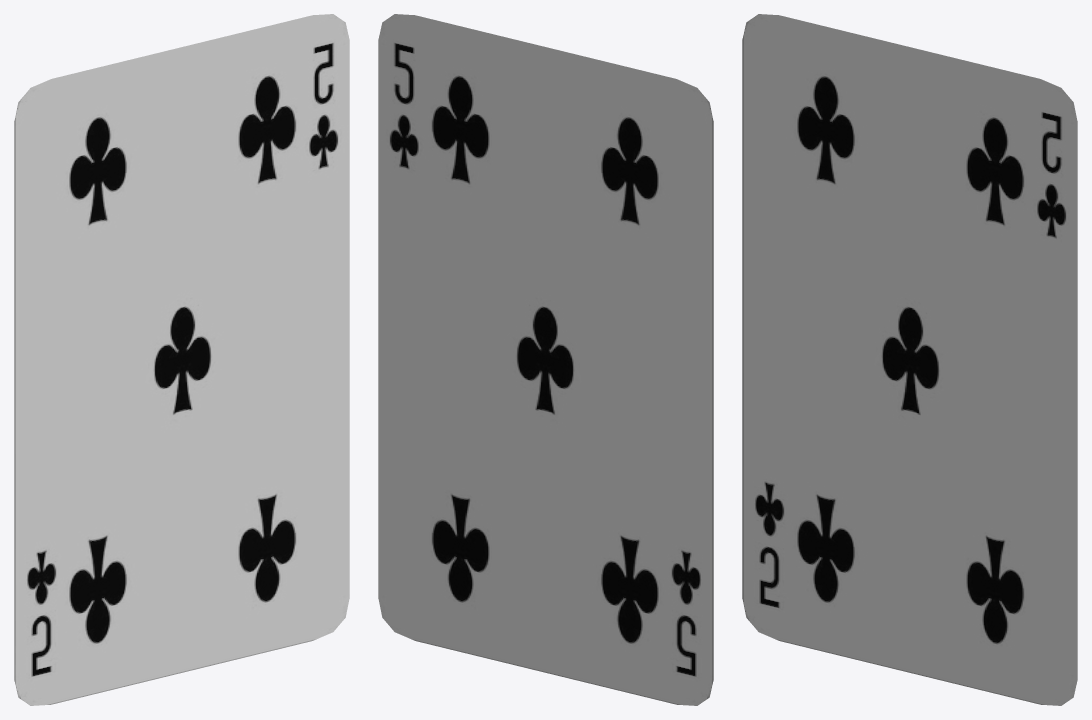
Rendered from 5_clubs.glb.
The picture shows the model from 3 angles, left to right: view 1: azimuth 30°, elevation 25°; view 2: azimuth 150°, elevation 25°; view 3: azimuth 330°, elevation 25°; orthographic projection.
Parts seen in each view (by area): view 1: Five of Clubs_31_0; view 2: Five of Clubs_31_0; view 3: Five of Clubs_31_0.
Boxes of the visible parts, bbox=[...] form: Five of Clubs_31_0: bbox=[14, 14, 349, 705]; Five of Clubs_31_0: bbox=[378, 14, 713, 705]; Five of Clubs_31_0: bbox=[742, 14, 1077, 705].
Bounding box in the file's own units: 0.2527 × 0.4503 × 2.78e-17.
Materials: 1 (1 with a texture image).
